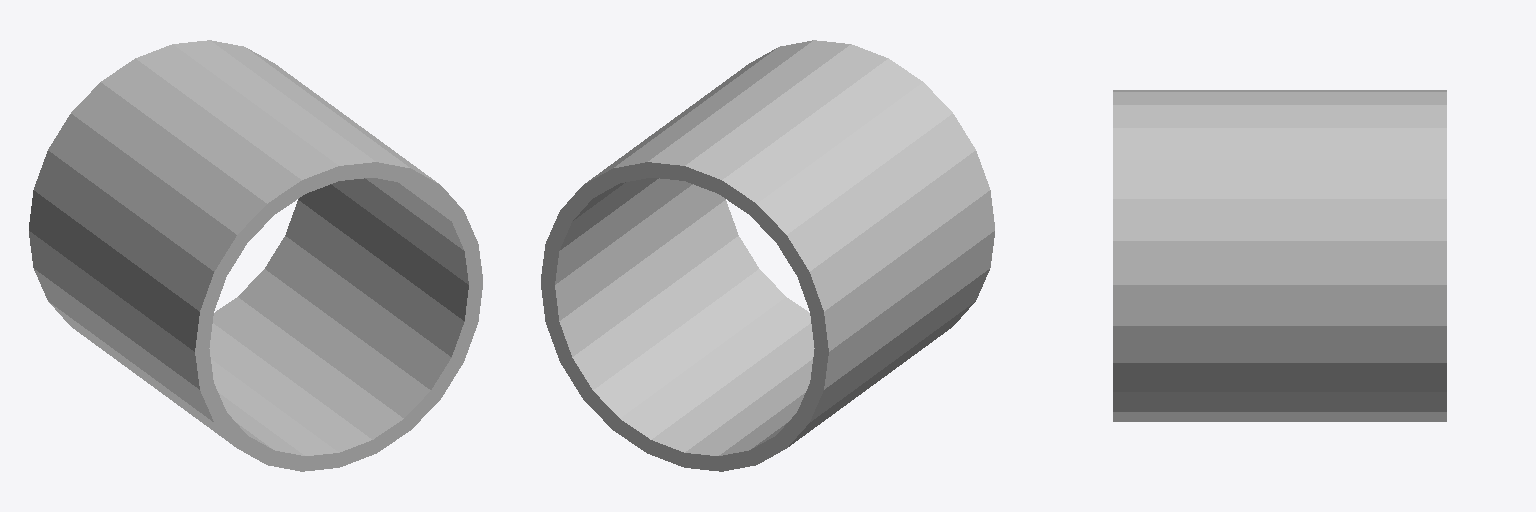
File: zone_ring.obj
3 views of the same model, side by side, from view 1: azimuth 30°, elevation 25°; view 2: azimuth 150°, elevation 25°; view 3: azimuth 270°, elevation 25° (orthographic).
Parts seen in each view (by area): view 1: obj_0; view 2: obj_0; view 3: obj_0.
Part boxes in pixels (x1,y1,x2,y2): obj_0: (29,40,482,471); obj_0: (541,40,994,471); obj_0: (1113,90,1446,421).
Bounding box in the file's own units: 20 × 20 × 20.